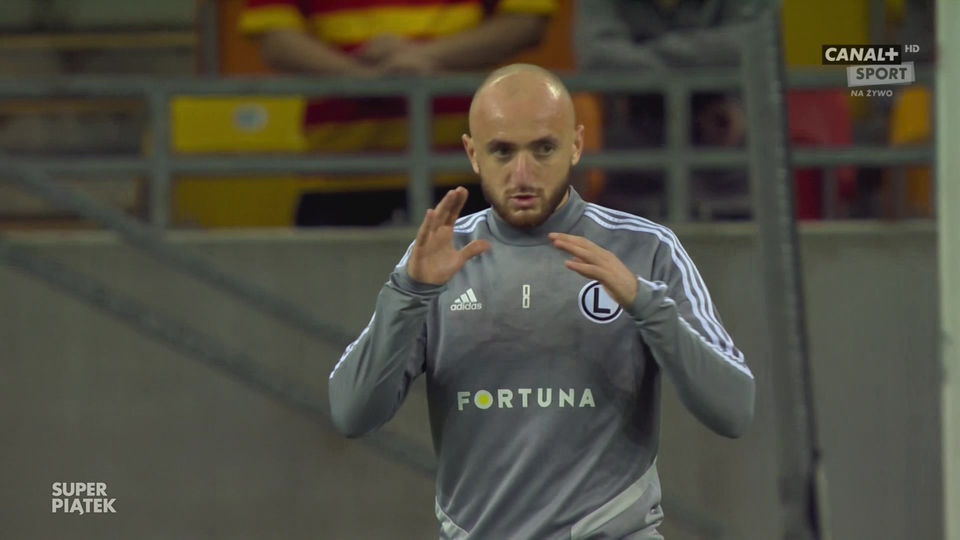Adidas: (450, 288, 483, 312)
